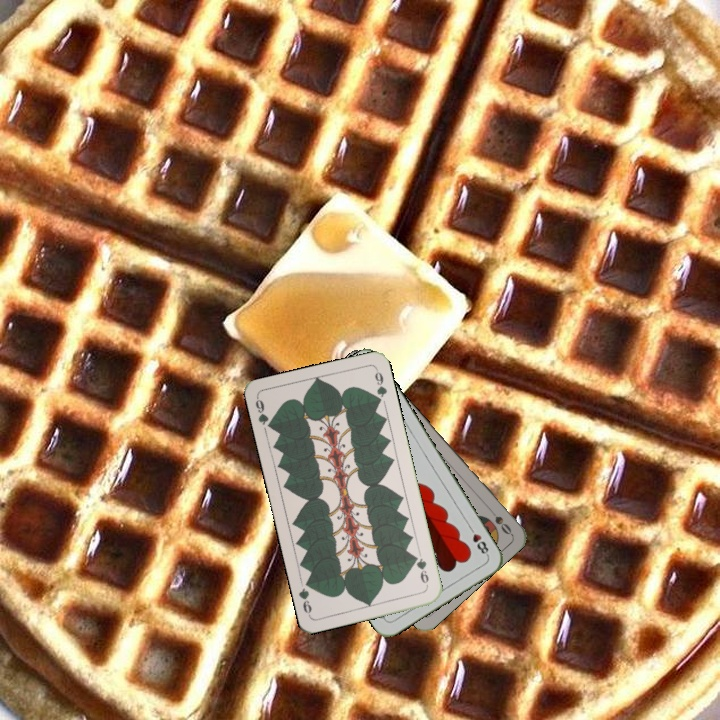G9: (251, 394, 276, 432), (410, 551, 431, 589)
H8: (465, 522, 491, 559)
SO: (483, 503, 514, 537)
